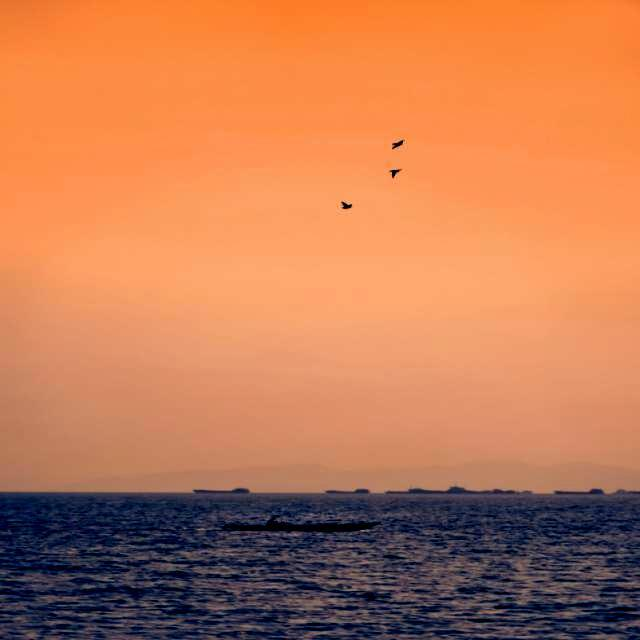bird: (388, 168, 402, 180), (390, 140, 403, 150), (342, 202, 358, 210)
